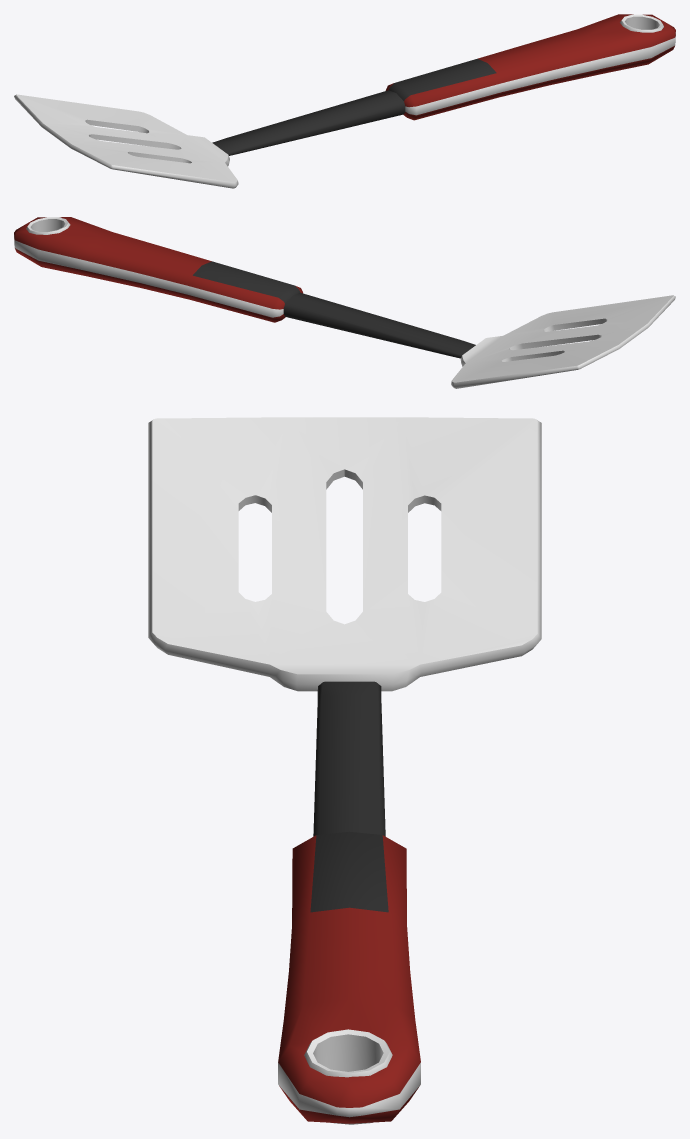
File: PotShovel.FBX
The picture shows the model from 3 angles, top to bottom: view 1: azimuth 30°, elevation 25°; view 2: azimuth 150°, elevation 25°; view 3: azimuth 270°, elevation 25°; orthographic projection. The views are drawn at different scales.
Parts seen in each view (by area): view 1: PotShovel; view 2: PotShovel; view 3: PotShovel.
Boxes of the visible parts, x1,y1,x2,y2 form: PotShovel: [14, 14, 675, 188]; PotShovel: [14, 217, 675, 388]; PotShovel: [148, 417, 541, 1124].
Size of the model in its own units: 40.63 by 11.21 by 4.19.
